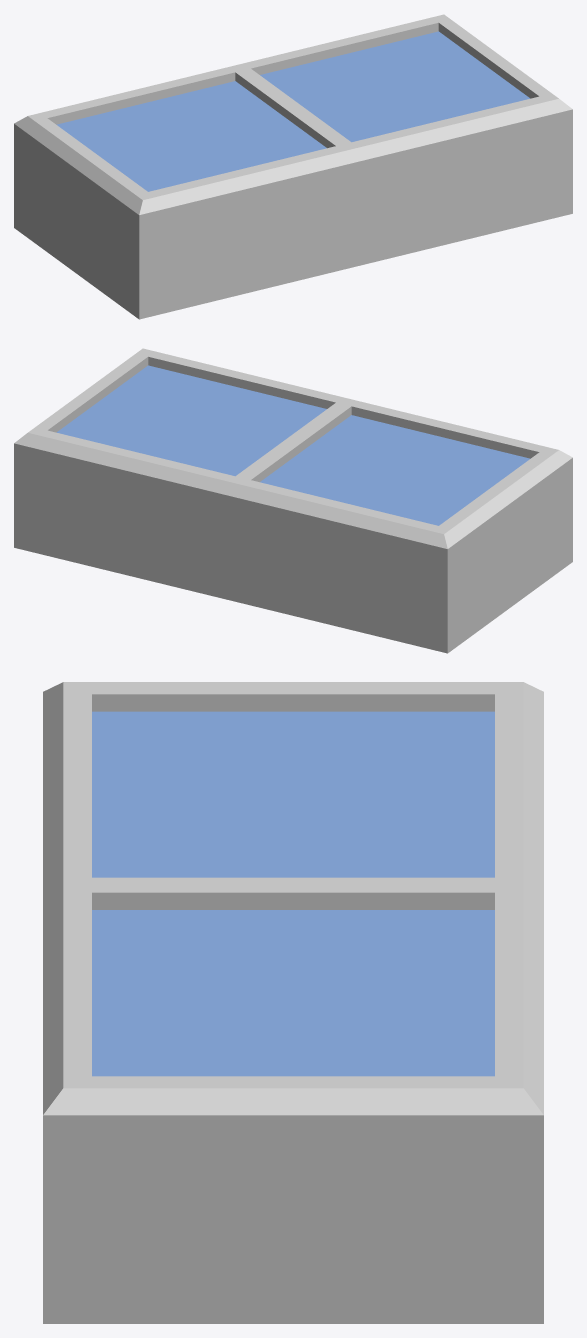
File: regal_kuehlfach.fbx
3 renders of one model, top to bottom at view 1: azimuth 30°, elevation 25°; view 2: azimuth 150°, elevation 25°; view 3: azimuth 270°, elevation 25°, orthographic. The views are drawn at different scales.
Parts seen in each view (by area): view 1: Kuehlfach; view 2: Kuehlfach; view 3: Kuehlfach.
Boxes of the visible parts, x1,y1,x2,y2 form: Kuehlfach: (14,14,572,319); Kuehlfach: (14,348,572,653); Kuehlfach: (43,682,543,1323).
Size of the model in its own units: 200 by 50 by 100.
